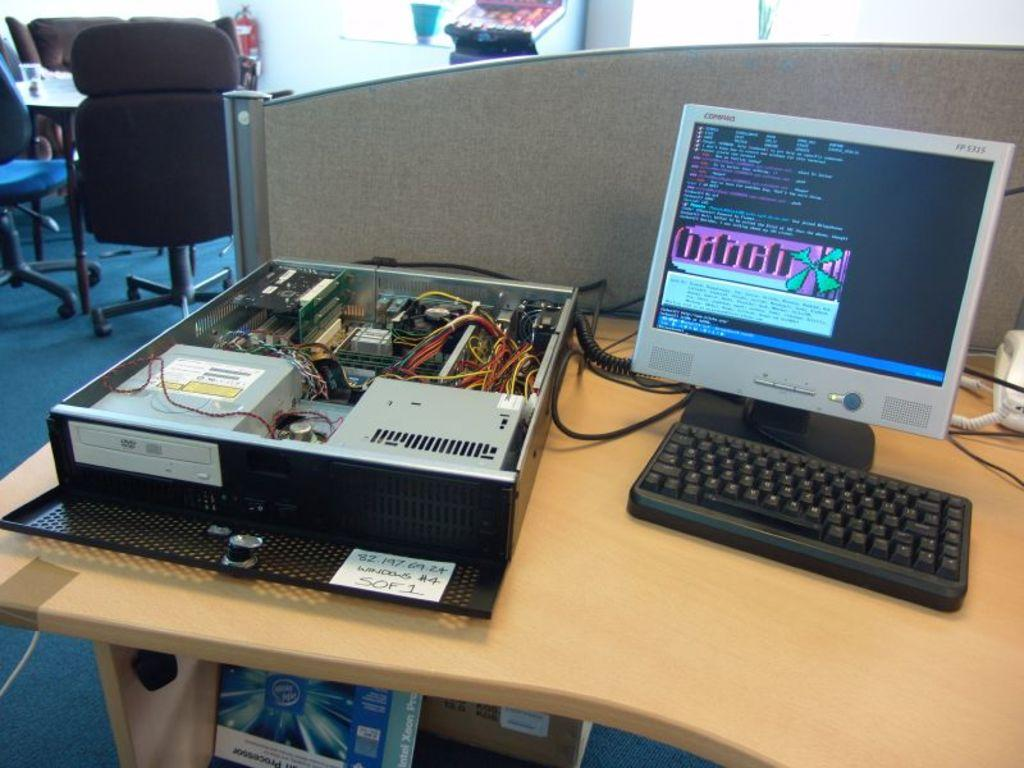Chair: (38, 0, 264, 352), (0, 49, 106, 316)
Computer-keyboard: (623, 420, 973, 613)
Computer-monitor: (628, 150, 973, 442)
